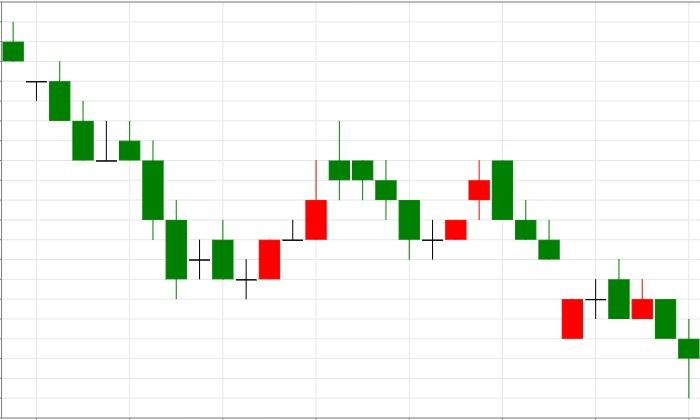morning_star_rise: (2, 22, 279, 299), (329, 120, 466, 260)
